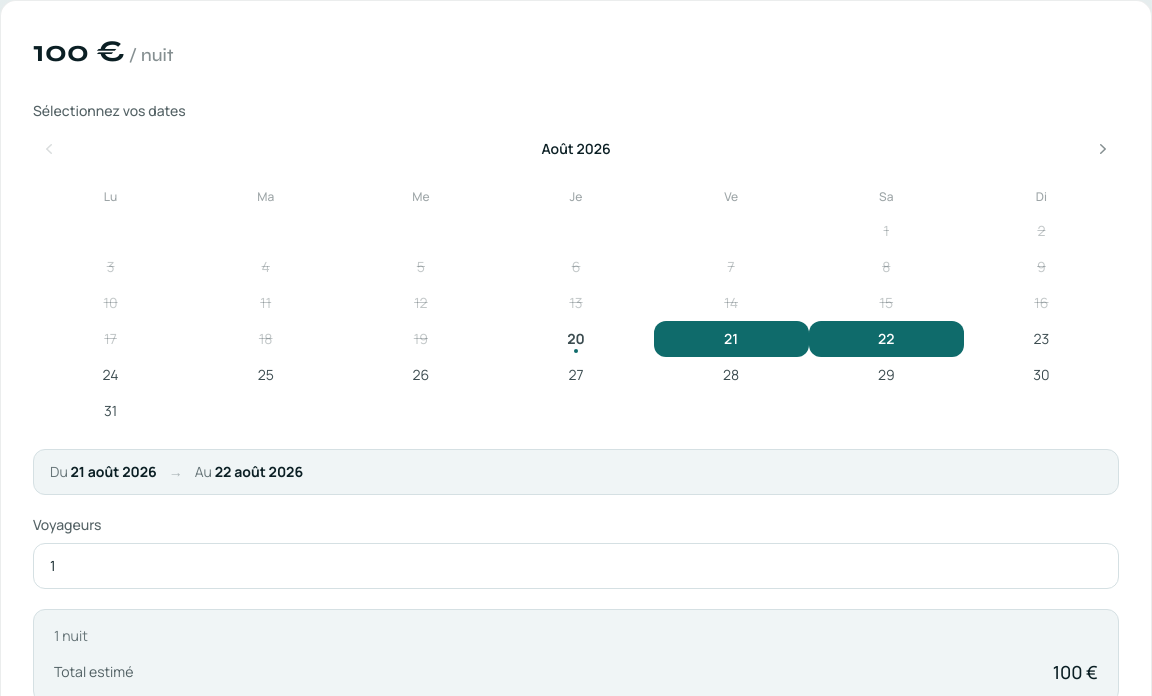
Test: RoomBookingPanel › ajoute au panier avec des dates disponibles
The width and height of the screenshot is (1152, 696).
Click the button named "Mois suivant" at coordinates (1103, 149), box [1087,133,1119,165]
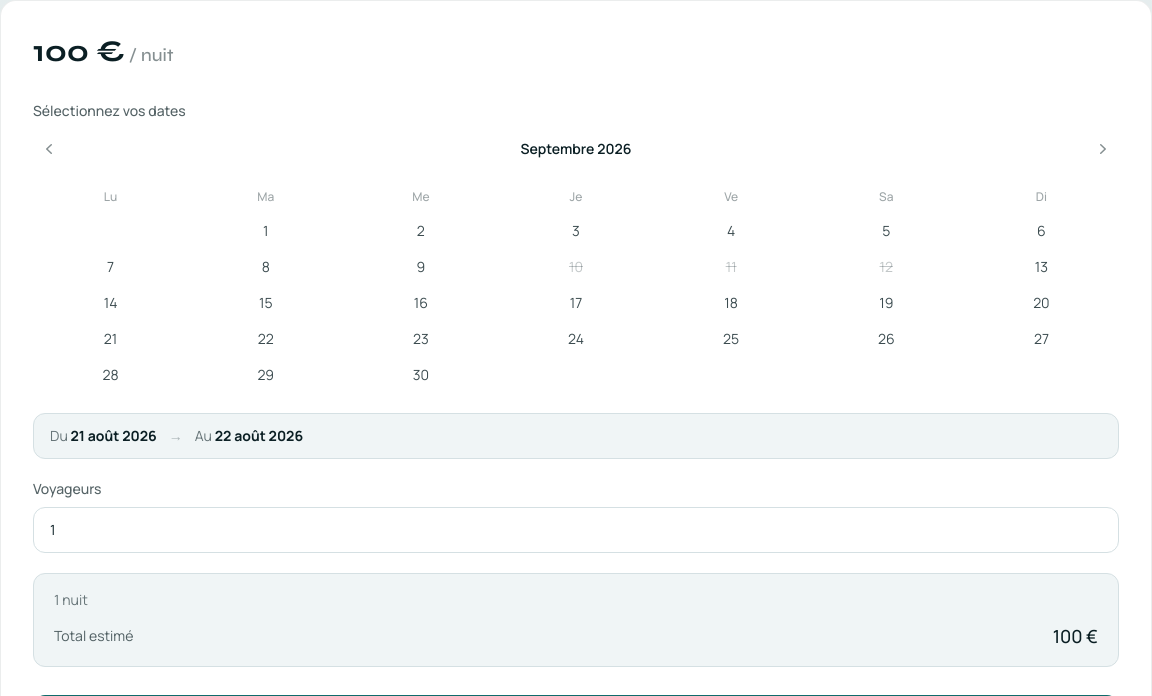
Click the button "1" at coordinates (266, 231), box [188,213,343,249]
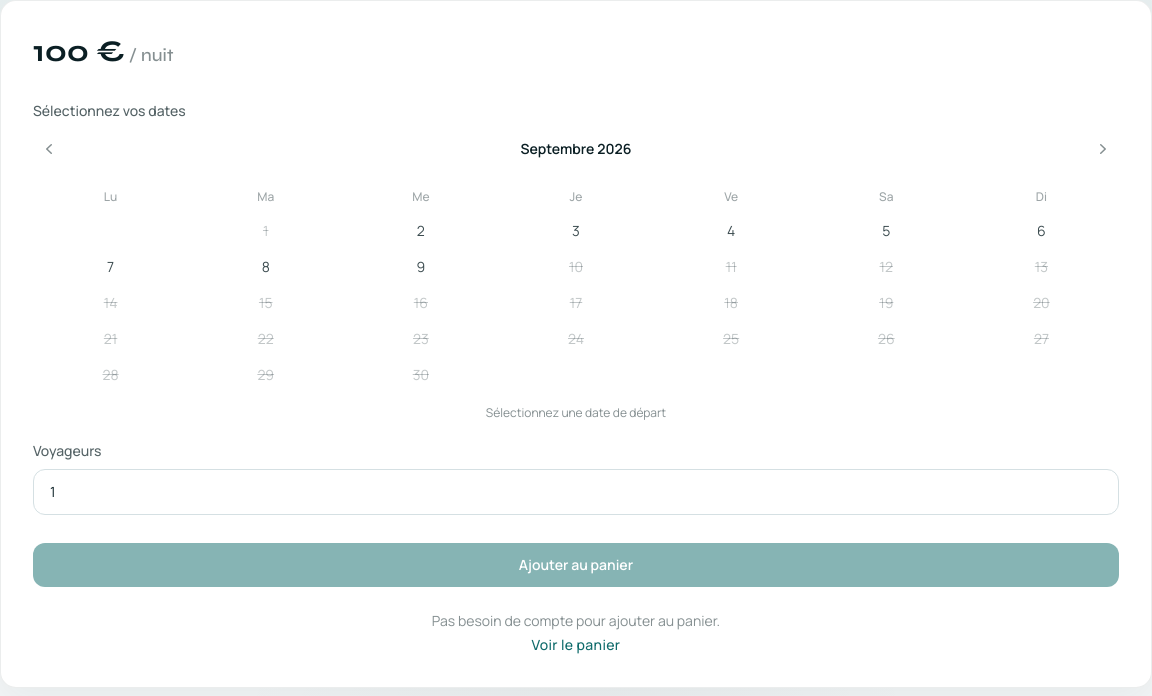
Click the button "3" at coordinates (576, 231), box [498,213,654,249]
(page scrolled)
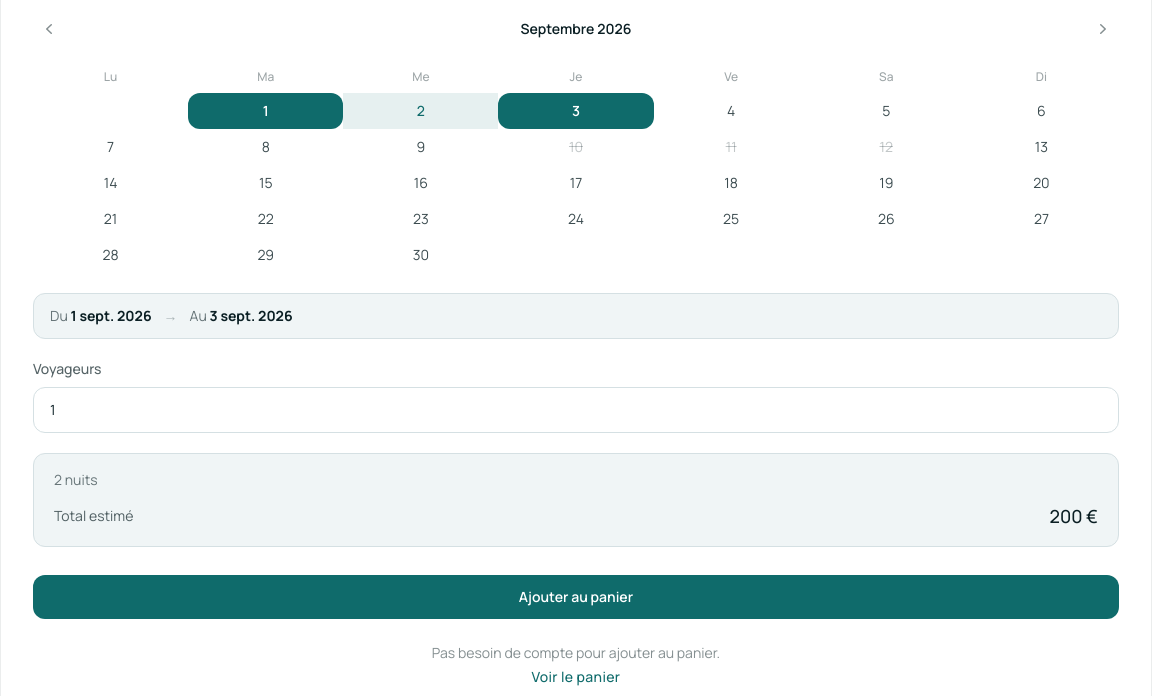
Expected: the button "Ajouter au panier" is enabled
Click the button "Ajouter au panier" at coordinates (576, 597), box [33,575,1119,619]
(page scrolled)
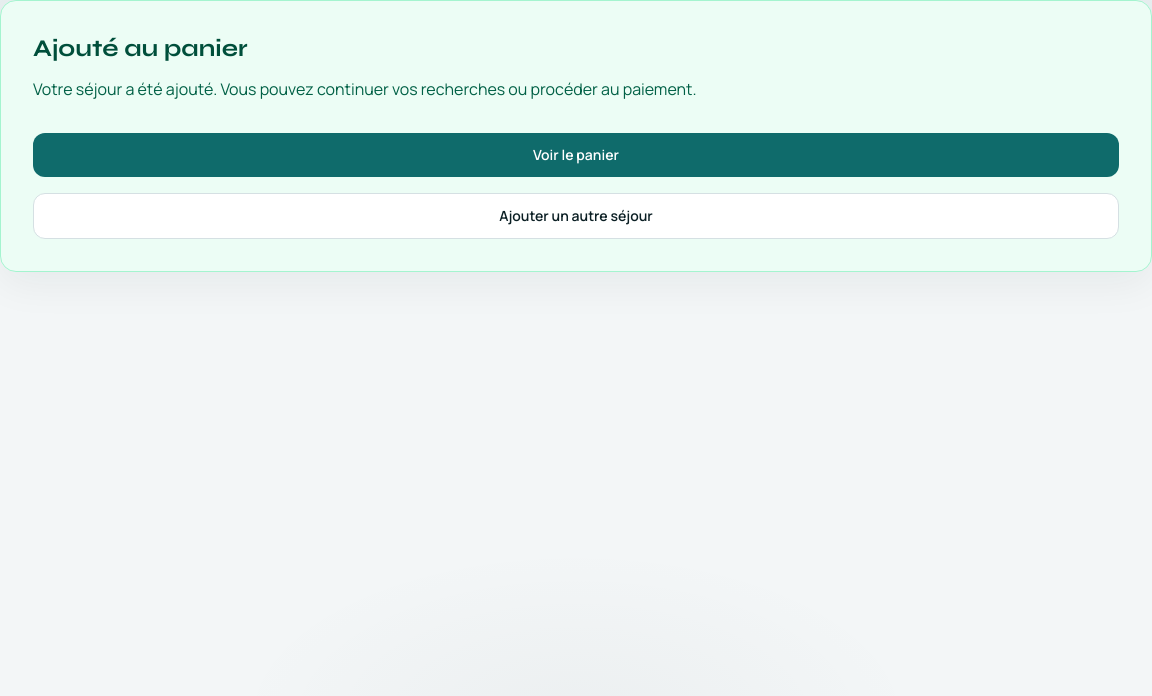
Expected: the heading "Ajouté au panier" is shown, [33,34,248,63]
